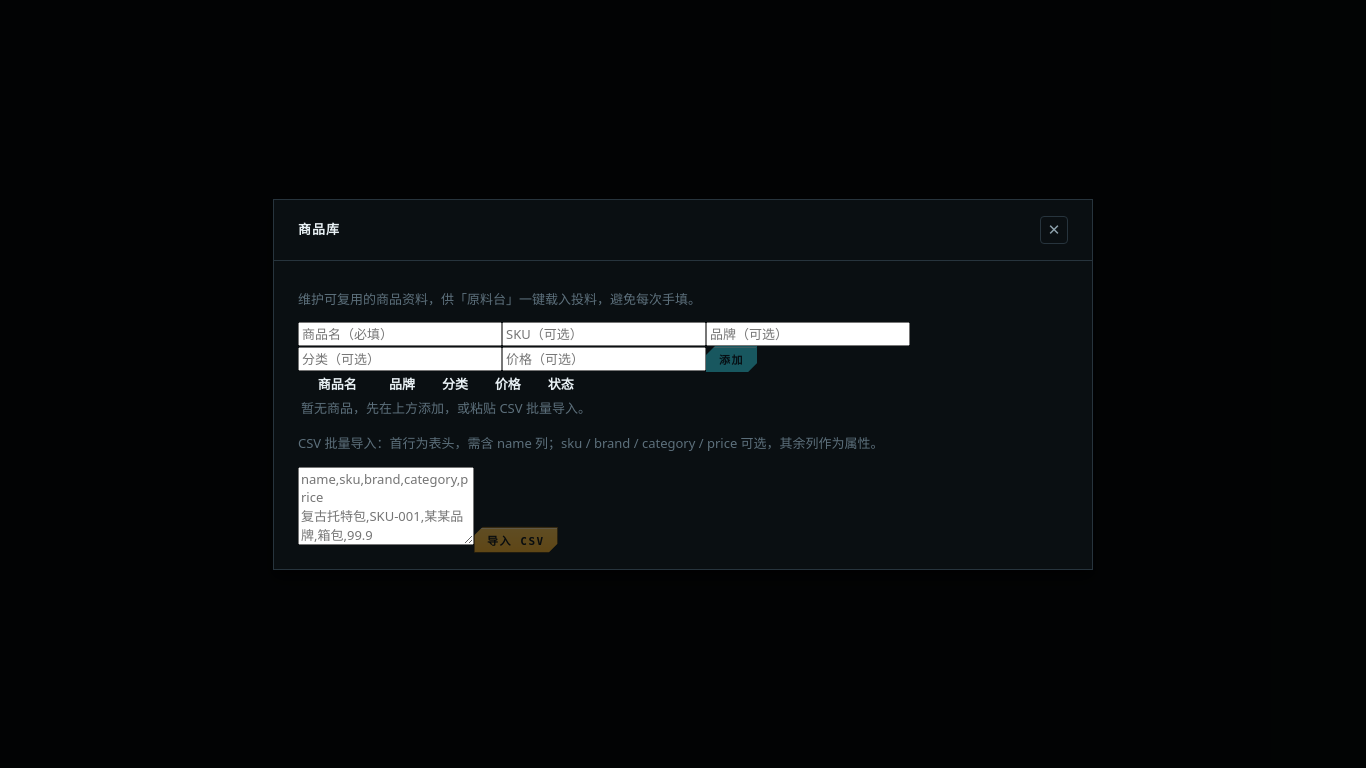
Scenario: ProductLibrary › keeps the add button disabled until a name is entered
Expected: the button "添加" is disabled, [706, 346, 757, 372]
Step 1. Type "新品" into the field with placeholder "商品名（必填）" → (400, 334), box [298, 322, 502, 346]
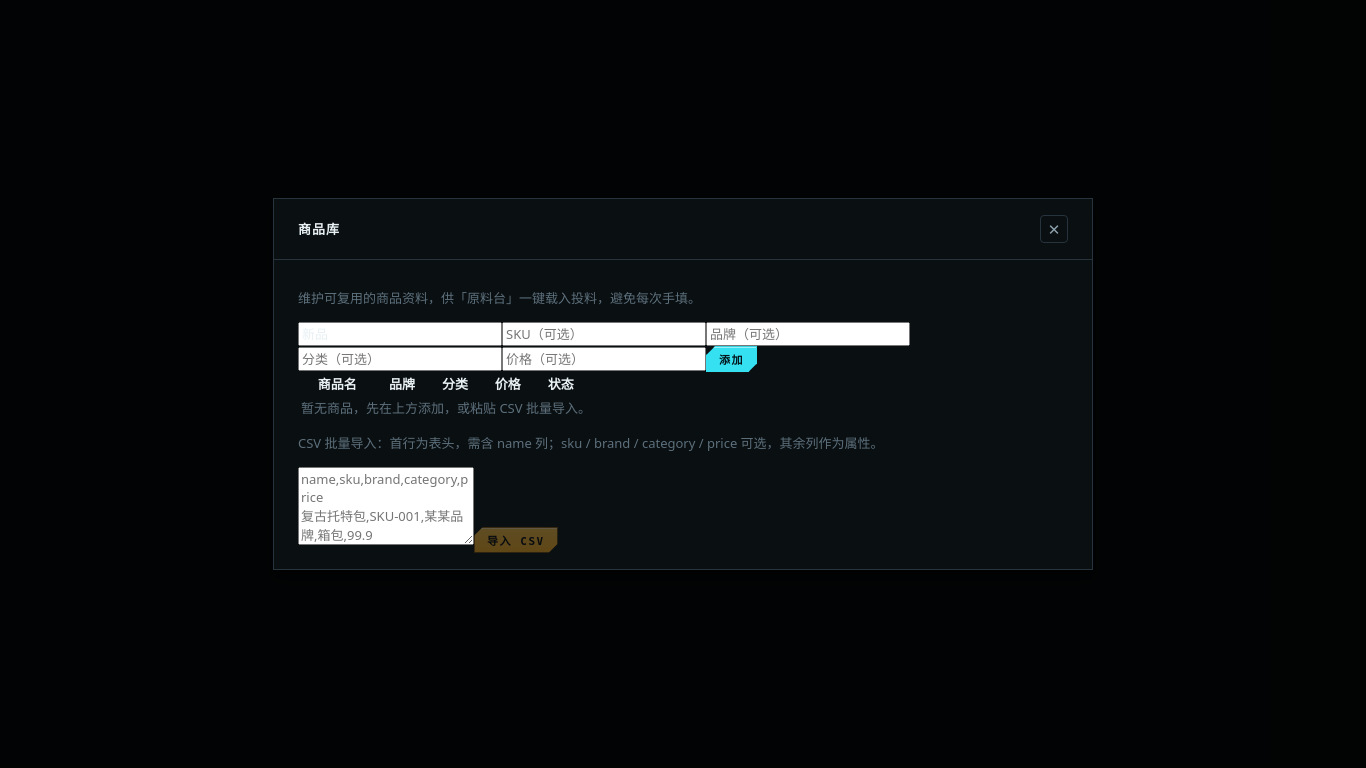
Now the button "添加" is enabled, box [706, 346, 757, 372]
